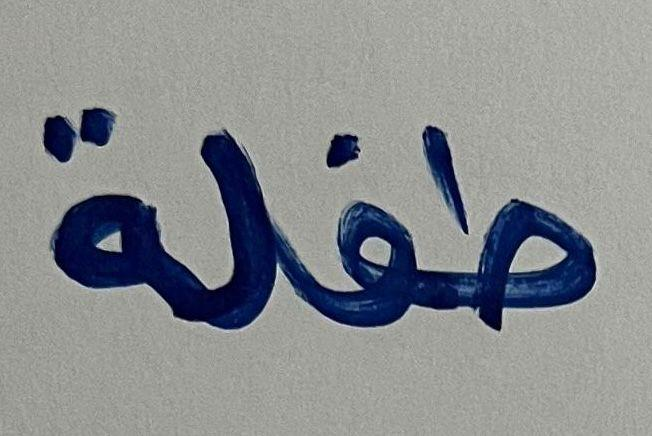feh: (301, 99, 419, 361)
lam: (184, 74, 298, 394)
tah: (422, 95, 620, 360)
teh_marbota: (13, 38, 176, 365)
